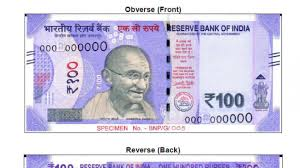hundred: (36, 33, 260, 113)
